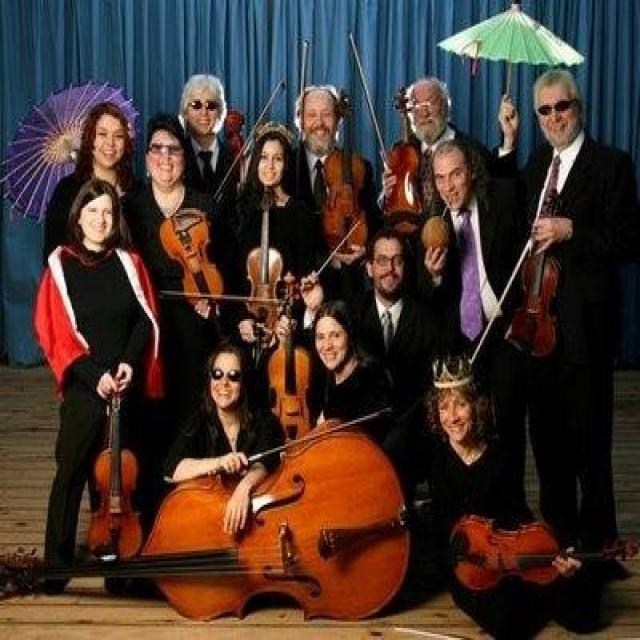violin: (445, 513, 640, 591), (503, 156, 569, 358), (88, 382, 145, 560), (159, 208, 235, 336), (266, 273, 316, 445), (320, 93, 371, 258), (380, 86, 424, 231), (245, 188, 286, 318)
